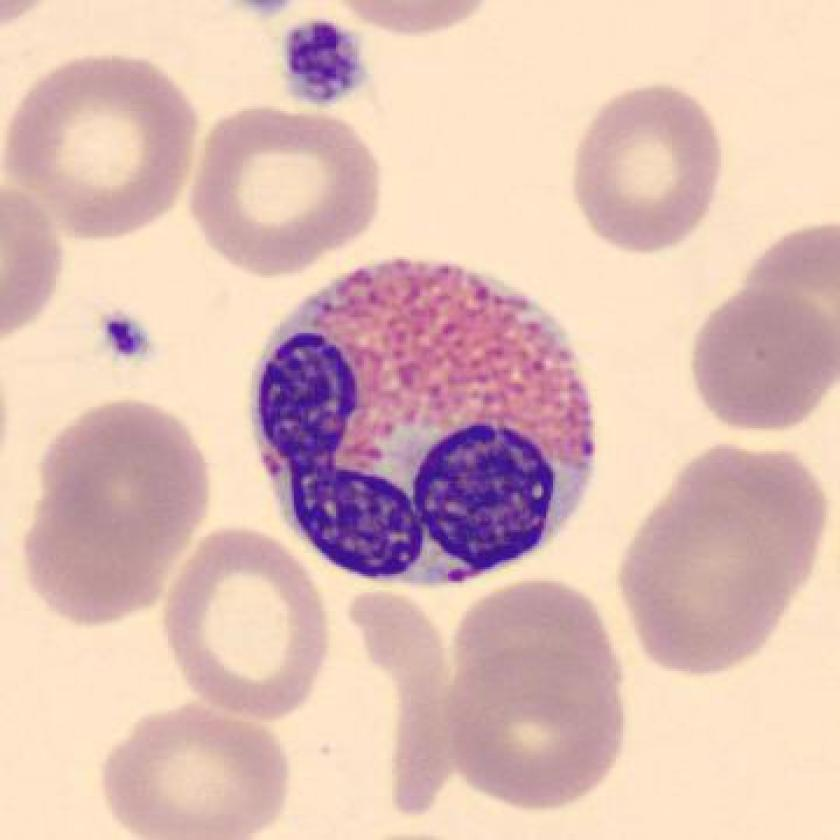eosinophil: (237, 244, 612, 598)
